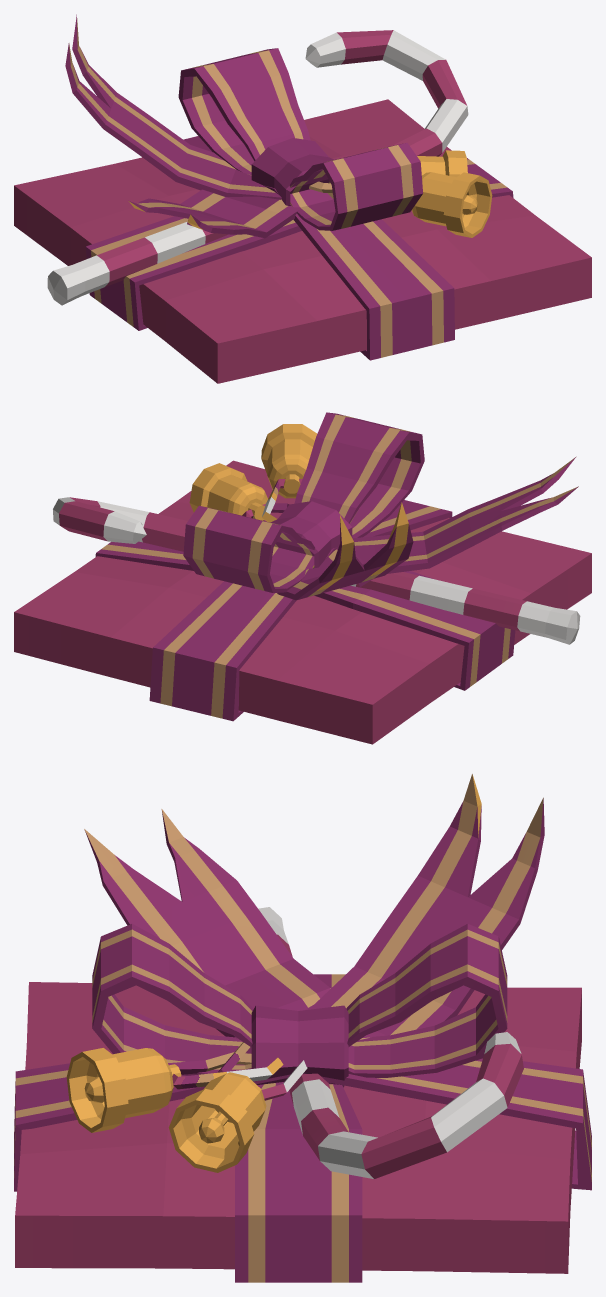
Rendered from tabs present Lid.fbx.
3 views of the same model, one above another, from view 1: azimuth 30°, elevation 25°; view 2: azimuth 150°, elevation 25°; view 3: azimuth 270°, elevation 25° (orthographic). The views are drawn at different scales.
Parts seen in each view (by area): view 1: CP_ThrowpresentLid-resources.assets-2288; view 2: CP_ThrowpresentLid-resources.assets-2288; view 3: CP_ThrowpresentLid-resources.assets-2288.
Boxes of the visible parts, bbox=[...] form: CP_ThrowpresentLid-resources.assets-2288: bbox=[14, 14, 591, 383]; CP_ThrowpresentLid-resources.assets-2288: bbox=[14, 412, 591, 744]; CP_ThrowpresentLid-resources.assets-2288: bbox=[14, 774, 591, 1282].
Bounding box in the file's own units: 0.7778 × 0.3536 × 0.6483.
